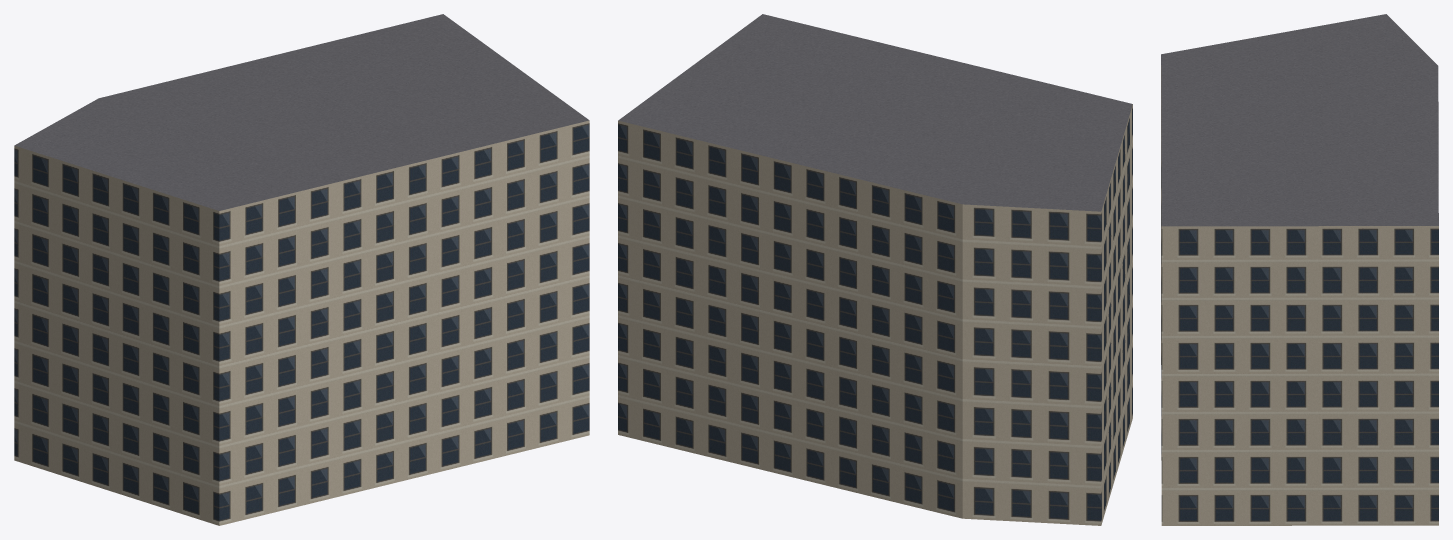
The model's file is bin1016266.glb.
3 views of the same model, side by side, from view 1: azimuth 30°, elevation 25°; view 2: azimuth 150°, elevation 25°; view 3: azimuth 270°, elevation 25° (orthographic). The views are drawn at different scales.
Parts seen in each view (by area): view 1: c2, c8, c0, c1, c5, c6, c7, c3, c14, c4, c11, c9 (+1 smaller); view 2: c8, c14, c12, c6, c13, c7, c2, c11, c5, c0, c1; view 3: c11, c8, c9, c14, c10, c2, c12, c13, c5.
Boxes of the visible parts, x1,y1,x2,y2 form: c2: [157, 131, 490, 339]; c8: [14, 76, 457, 319]; c0: [157, 357, 490, 525]; c1: [157, 273, 490, 423]; c5: [418, 100, 582, 272]; c6: [14, 358, 157, 505]; c7: [14, 274, 157, 403]; c3: [490, 334, 582, 459]; c14: [189, 14, 483, 78]; c4: [490, 250, 582, 356]; c11: [391, 43, 589, 250]; c9: [582, 332, 589, 436]; c8: [776, 71, 1123, 339]; c14: [618, 91, 872, 310]; c12: [618, 332, 872, 496]; c6: [872, 349, 1123, 525]; c13: [618, 249, 872, 393]; c7: [872, 266, 1123, 423]; c2: [862, 38, 1132, 263]; c11: [658, 14, 786, 107]; c5: [770, 16, 871, 71]; c0: [1123, 316, 1132, 449]; c1: [1123, 233, 1132, 347]; c11: [1161, 177, 1362, 348]; c8: [1221, 14, 1438, 190]; c9: [1161, 428, 1362, 525]; c14: [1338, 108, 1438, 348]; c10: [1161, 348, 1362, 428]; c2: [1161, 42, 1228, 282]; c12: [1362, 428, 1438, 525]; c13: [1362, 348, 1438, 427]; c5: [1161, 161, 1263, 222].
Bounding box in the file's own units: 41.92 × 27.58 × 23.17.
3 materials, 3 textured.
